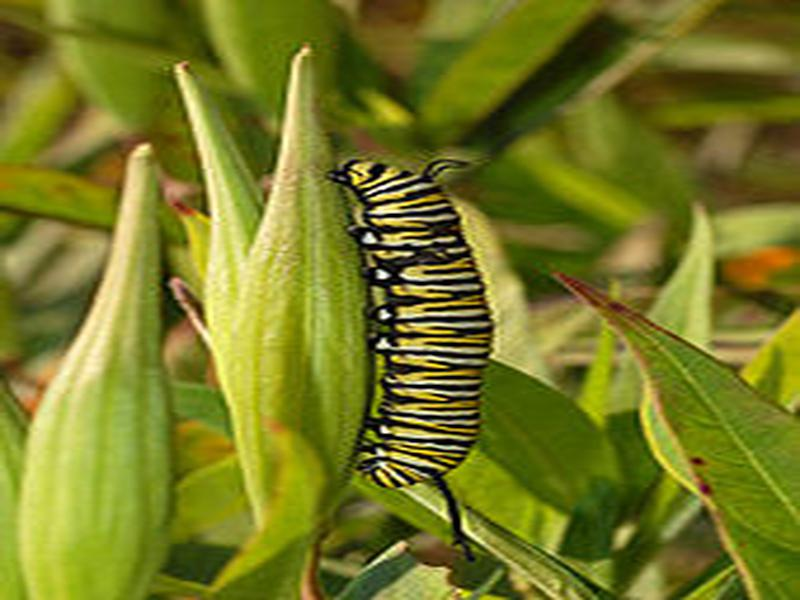Rice_horned_caterpillar: (314, 134, 513, 528)
